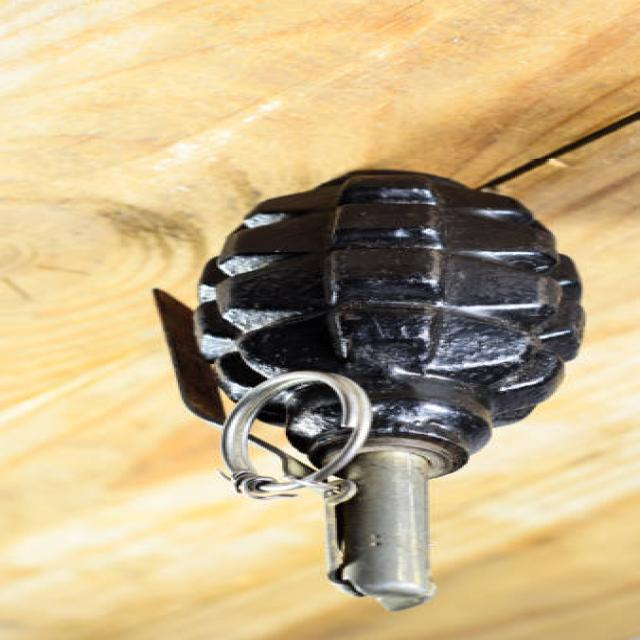grenade: (142, 170, 592, 616)
